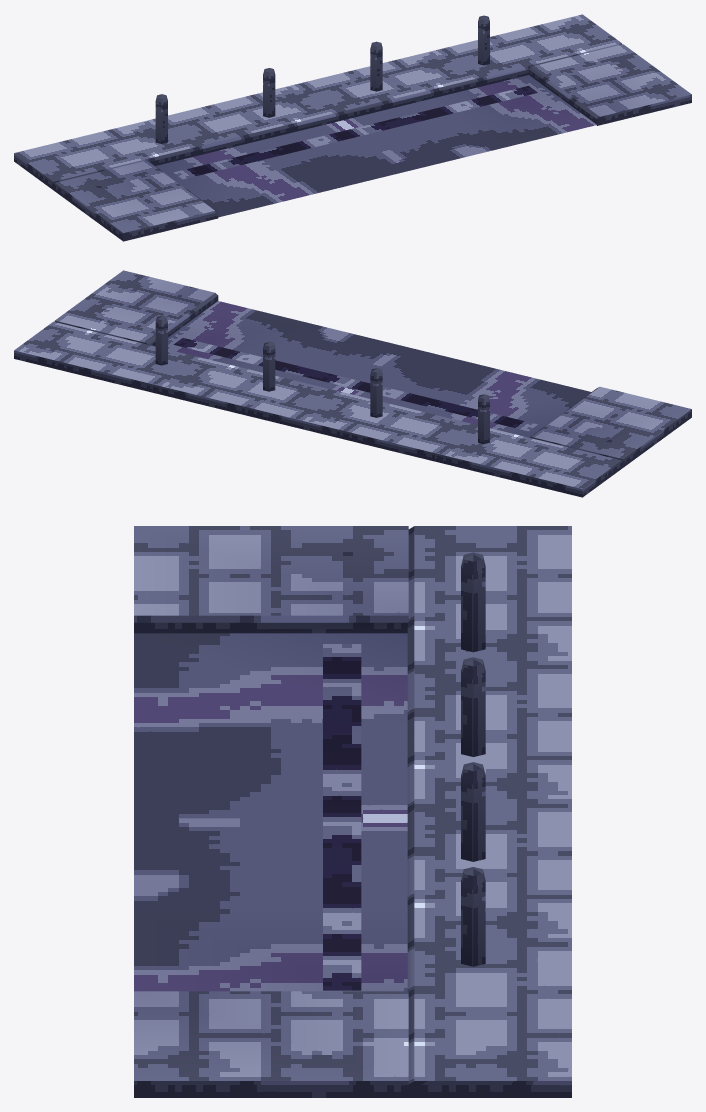
The model's file is cystreet.end.glb.
The picture shows the model from 3 angles, top to bottom: view 1: azimuth 30°, elevation 25°; view 2: azimuth 150°, elevation 25°; view 3: azimuth 270°, elevation 25°; orthographic projection. The views are drawn at different scales.
Visible parts, largest first — view 1: kit_walks, kit_shell_road, kit_card_paint, kit_bollards; view 2: kit_walks, kit_shell_road, kit_card_paint, kit_bollards; view 3: kit_walks, kit_shell_road, kit_card_paint, kit_bollards.
Part boxes in pixels (x1,y1,x2,y2): kit_walks: (14,14,691,241); kit_shell_road: (155,75,596,217); kit_card_paint: (173,86,537,179); kit_bollards: (155,15,489,143); kit_walks: (14,270,691,497); kit_shell_road: (168,301,590,437); kit_card_paint: (173,338,537,431); kit_bollards: (155,315,489,443); kit_walks: (134,526,571,1097); kit_shell_road: (134,633,407,991); kit_card_paint: (323,644,361,990); kit_bollards: (461,552,485,966).
Bounding box in the file's own units: 12 × 1.1 × 4.
6 materials, 6 textured.
